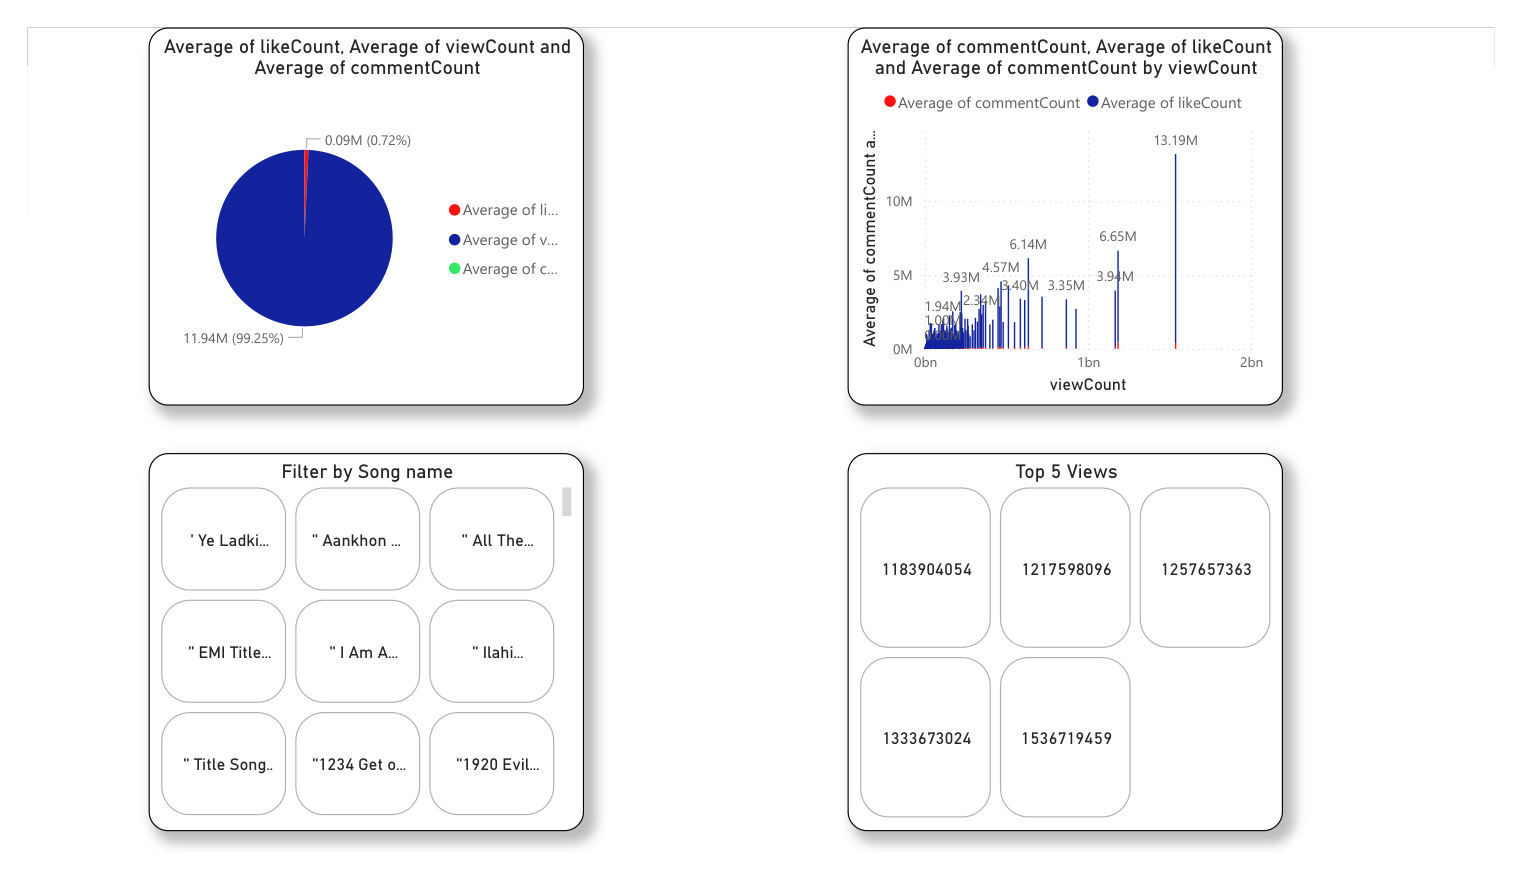

Layout of this report page (visuals, bound fields, positions):
{"tool":"powerbi","page":{"name":"EDA","canvas":[1280,720],"ordinal":0},"visuals":[{"type":"pieChart","fields":{"Y":["Avg(songs xlsx - Sheet1.likeCount)","Avg(songs xlsx - Sheet1.viewCount)","Avg(songs xlsx - Sheet1.commentCount)"]},"box":[105.7,0,380,330],"z":0},{"type":"advancedSlicerVisual","title":"Filter by Song name","fields":{"Values":["songs xlsx - Sheet1.title"]},"box":[105.7,371.4,380,330],"z":1000},{"type":"columnChart","fields":{"Category":["songs xlsx - Sheet1.viewCount"],"Y":["Avg(songs xlsx - Sheet1.commentCount)","Avg(songs xlsx - Sheet1.likeCount)"]},"box":[715.7,0,380,330],"z":2000},{"type":"advancedSlicerVisual","title":"Top 5 Views ","fields":{"Values":["songs xlsx - Sheet1.viewCount"]},"box":[715.7,371.4,380,330],"z":3000}]}

Visuals, with their boxes in screenshot pixels (x1, y1, x2, y2), scaled from the page's 1280x720 canvas onto the 1522x880 screenshot:
pieChart - Avg(songs xlsx - Sheet1.likeCount) x Avg(songs xlsx - Sheet1.viewCount): (left=126, top=0, right=578, bottom=403)
"Filter by Song name" advancedSlicerVisual: (left=126, top=454, right=578, bottom=857)
columnChart - songs xlsx - Sheet1.viewCount x Avg(songs xlsx - Sheet1.commentCount): (left=851, top=0, right=1303, bottom=403)
"Top 5 Views " advancedSlicerVisual: (left=851, top=454, right=1303, bottom=857)
